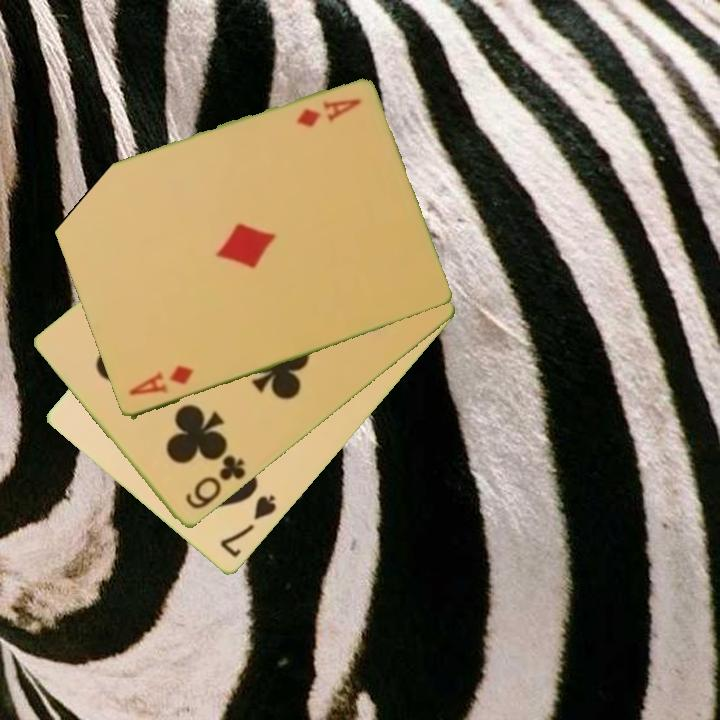6c: (181, 452, 249, 513)
7s: (216, 491, 280, 562)
Ad: (125, 362, 197, 399), (292, 96, 364, 131)
